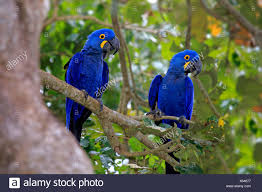guacamaya: (147, 47, 206, 142), (66, 28, 122, 125)
